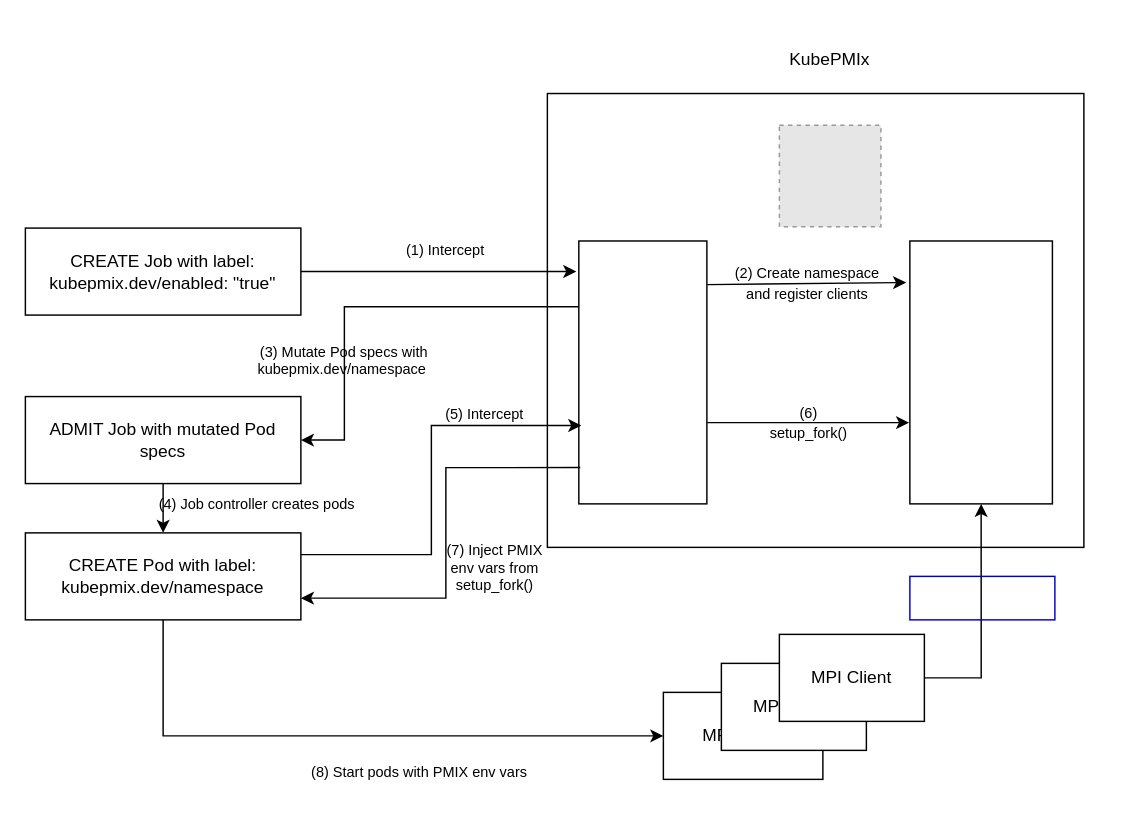
This 1138x818 diagram has some shape labels left out. Grey dashed boxes stand in for pictures. The shapes that lost their labels are listed below. From the top down, each one's box as (x1, y1, x2, y2) in pixels, then its label:
(577, 240, 707, 504): Admission webhook server
(908, 240, 1052, 504): OpenPMIx server
(908, 575, 1055, 620): (9) PMIx_Fence()
